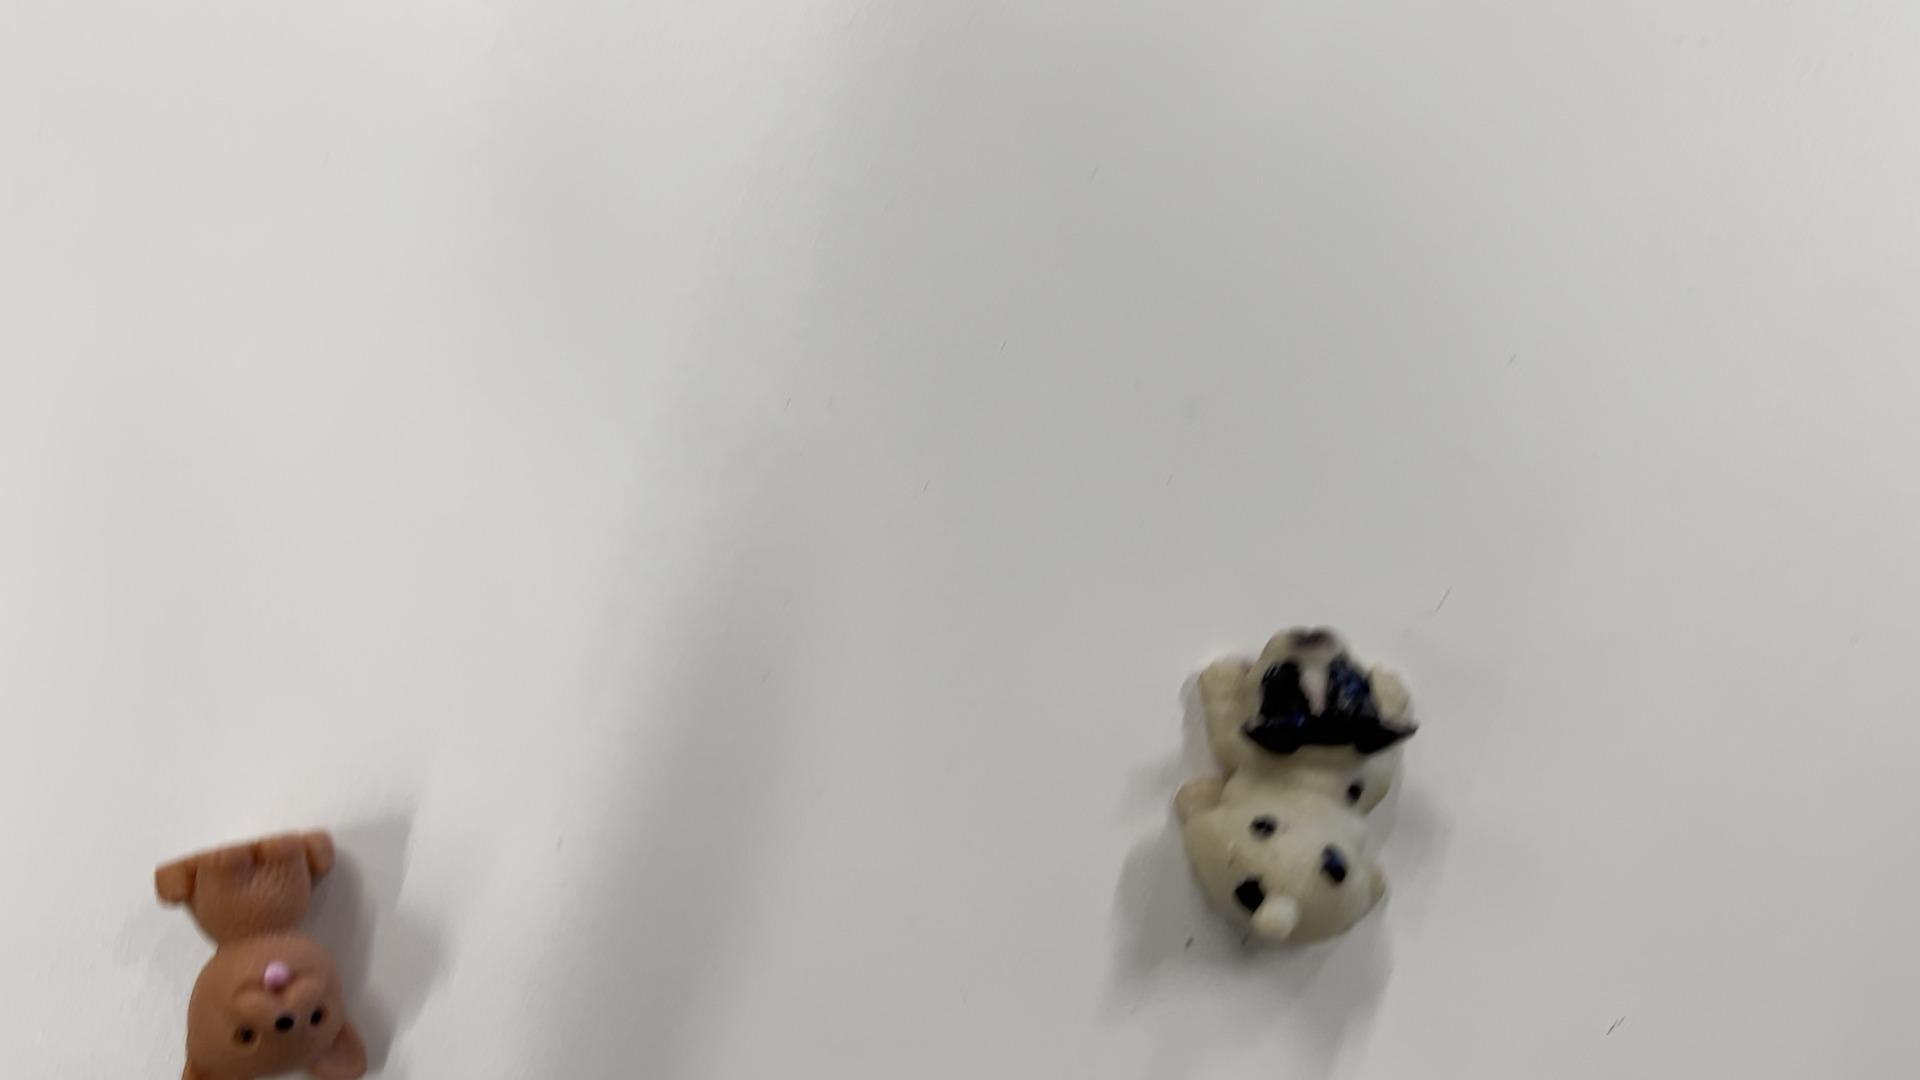pet: (1164, 609, 1472, 984), (148, 806, 407, 1059)
